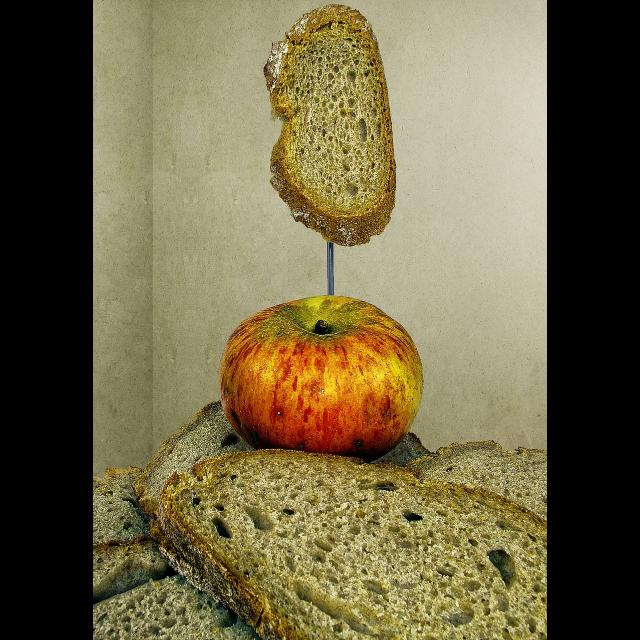Apel Tidak Segar: (198, 286, 454, 470)
